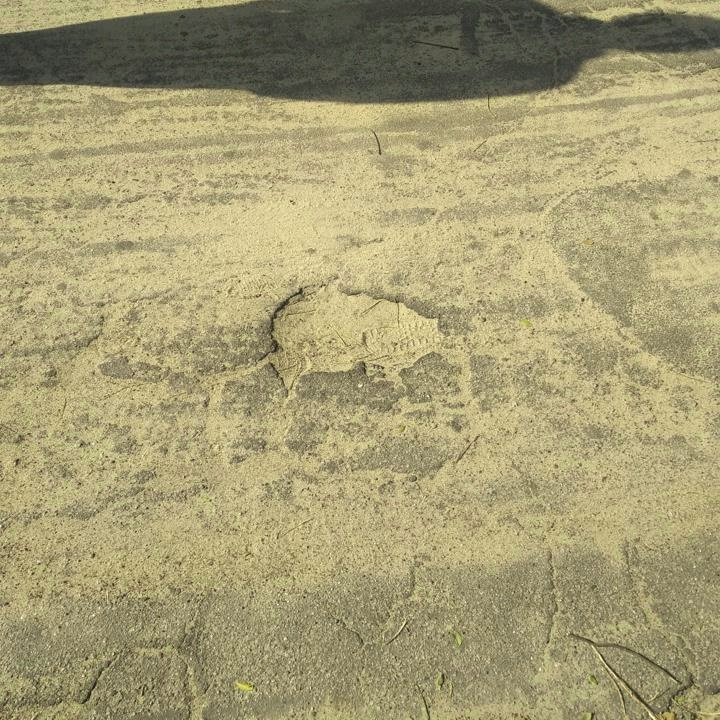pothole: (260, 274, 448, 396)
